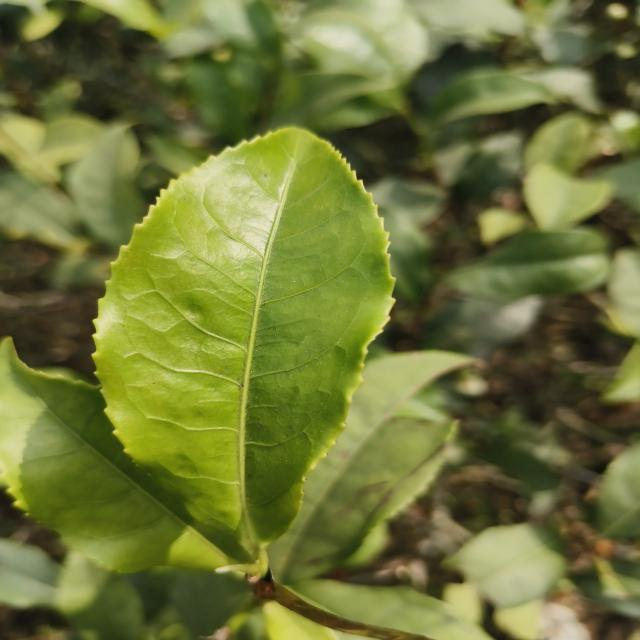Leaf: (95, 128, 393, 565), (0, 340, 230, 572), (268, 350, 474, 583), (447, 227, 609, 301), (66, 123, 148, 250), (448, 524, 566, 607), (55, 551, 146, 640), (422, 295, 543, 358), (432, 69, 555, 122), (524, 163, 613, 230), (379, 207, 432, 302), (203, 0, 280, 59), (597, 440, 640, 538), (525, 113, 594, 174), (0, 538, 59, 608), (39, 114, 105, 167)
